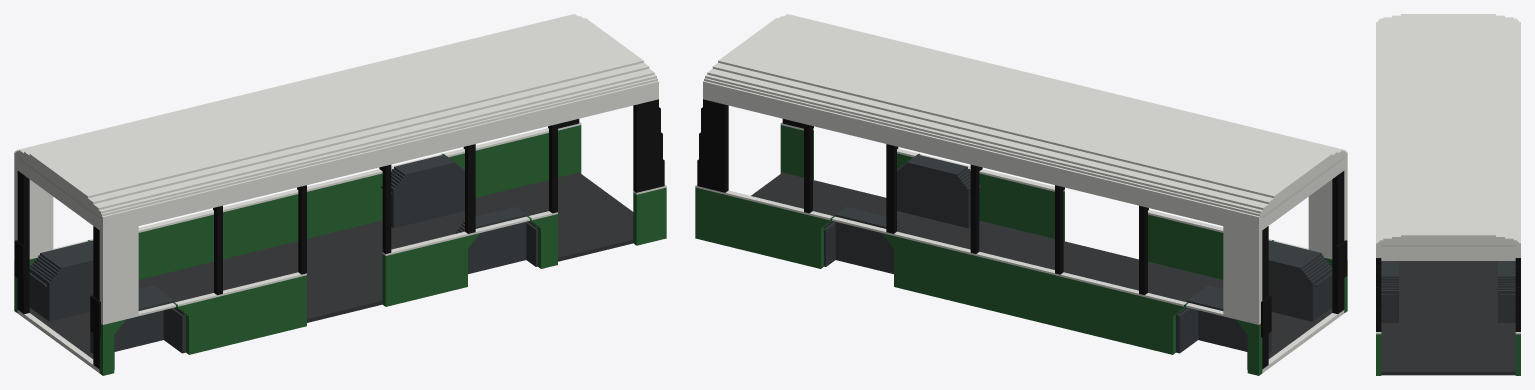
File: articulated_bus_shell.glb
3 renders of one model, left to right at view 1: azimuth 30°, elevation 25°; view 2: azimuth 150°, elevation 25°; view 3: azimuth 270°, elevation 25°, orthographic. The views are drawn at different scales.
Parts seen in each view (by area): view 1: body:compound; view 2: body:compound; view 3: body:compound.
Boxes of the visible parts, left/top/right/bottom form: body:compound: left=14, top=14, right=666, bottom=375; body:compound: left=695, top=14, right=1347, bottom=375; body:compound: left=1376, top=14, right=1520, bottom=375.
Size of the model in its own units: 9.44 by 2.69 by 2.56.
